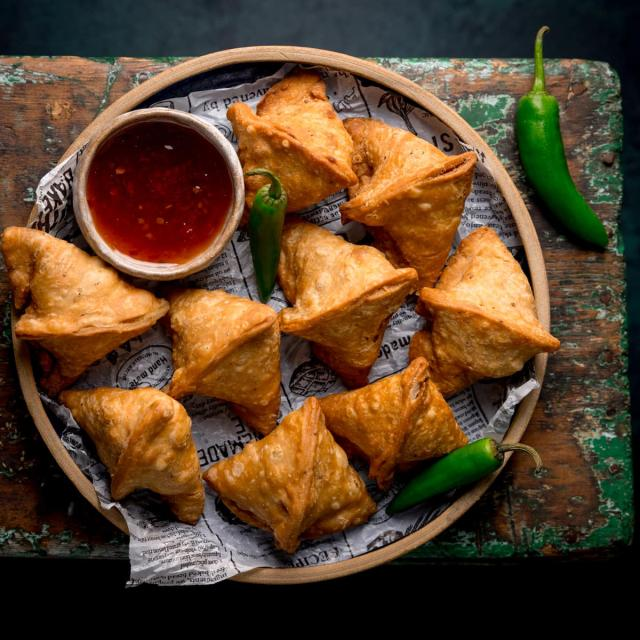SAMOSA: (0, 227, 168, 395), (204, 397, 376, 553), (410, 227, 559, 395), (279, 216, 418, 386), (340, 118, 476, 285), (60, 387, 204, 522), (319, 359, 468, 489), (227, 70, 356, 212), (161, 286, 281, 433)
